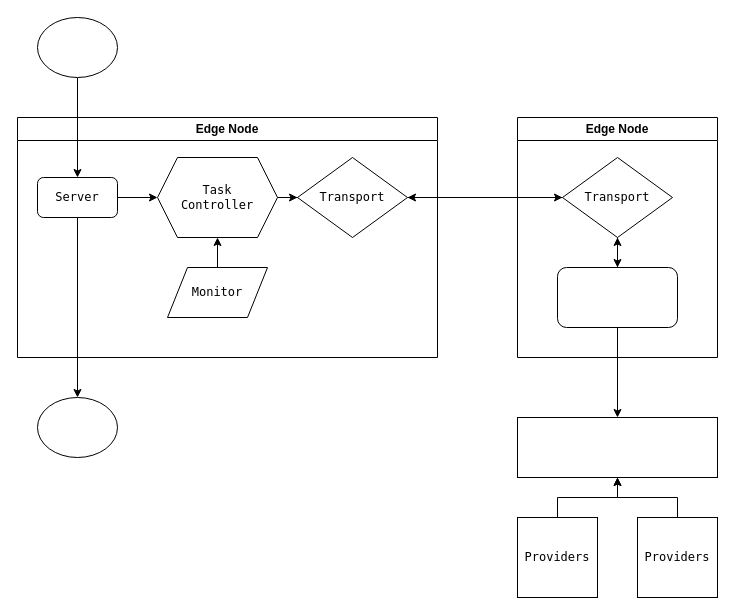
The diagram is 735 pixels wide and 615 high, and some of its shapes have lost their labels. The centre of each missing label's shape, as x and y in pixels:
"Chat Request" belongs at (x=77, y=47).
"Chat Response" belongs at (x=77, y=427).
"Provider Controller" belongs at (x=617, y=447).
"Task Executor" belongs at (x=617, y=297).
